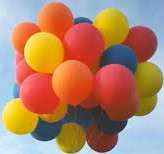Balloon: (95, 64, 138, 108), (52, 60, 95, 103), (24, 32, 63, 71), (20, 74, 57, 114), (64, 24, 102, 62), (3, 98, 38, 134), (95, 8, 128, 43), (39, 2, 72, 36), (128, 26, 157, 62), (135, 63, 164, 96), (58, 123, 86, 152)
